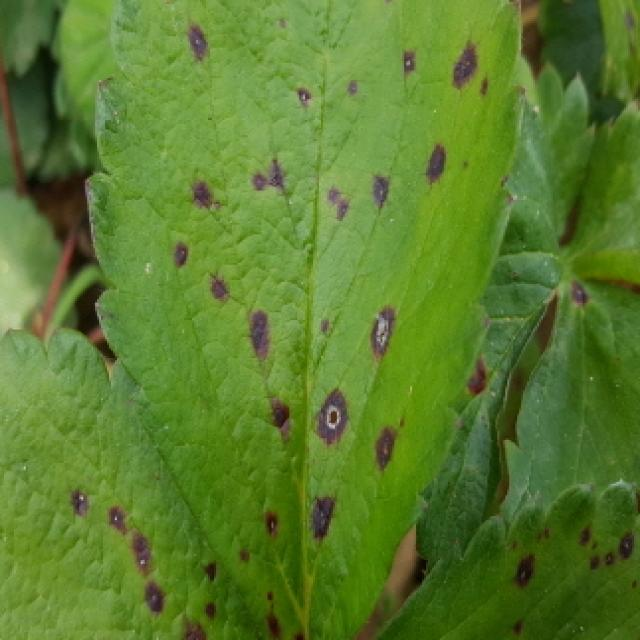Leaf Spot: (87, 0, 526, 640), (0, 325, 265, 640), (406, 114, 579, 594), (370, 483, 640, 640), (500, 282, 640, 519), (556, 102, 640, 288), (537, 0, 640, 138)
